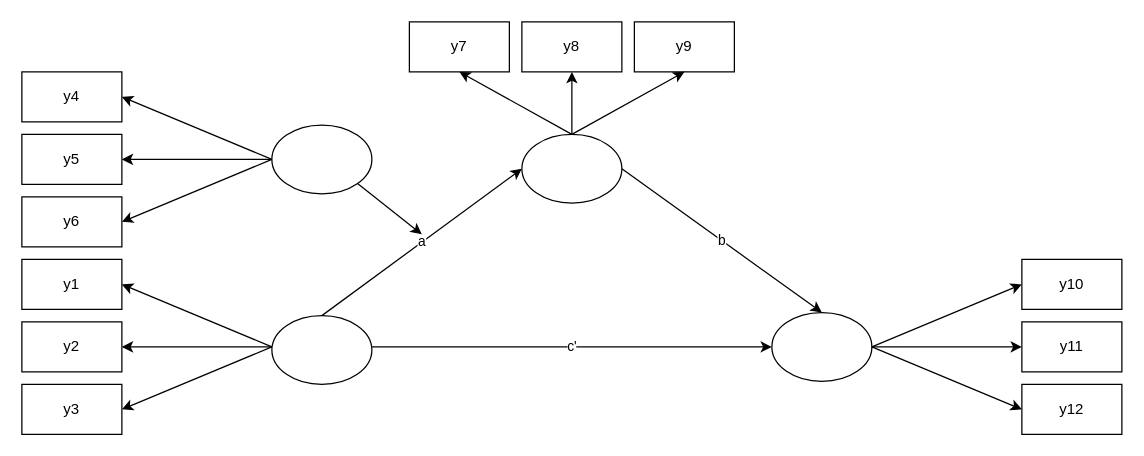
Some shapes in this 1144 by 456 pixel diagram are drawn without their labels. Each missing label, with the box of its shape:
f1: (271, 314, 372, 384)
f2: (271, 124, 372, 194)
f3: (521, 133, 622, 203)
f4: (771, 311, 872, 381)
